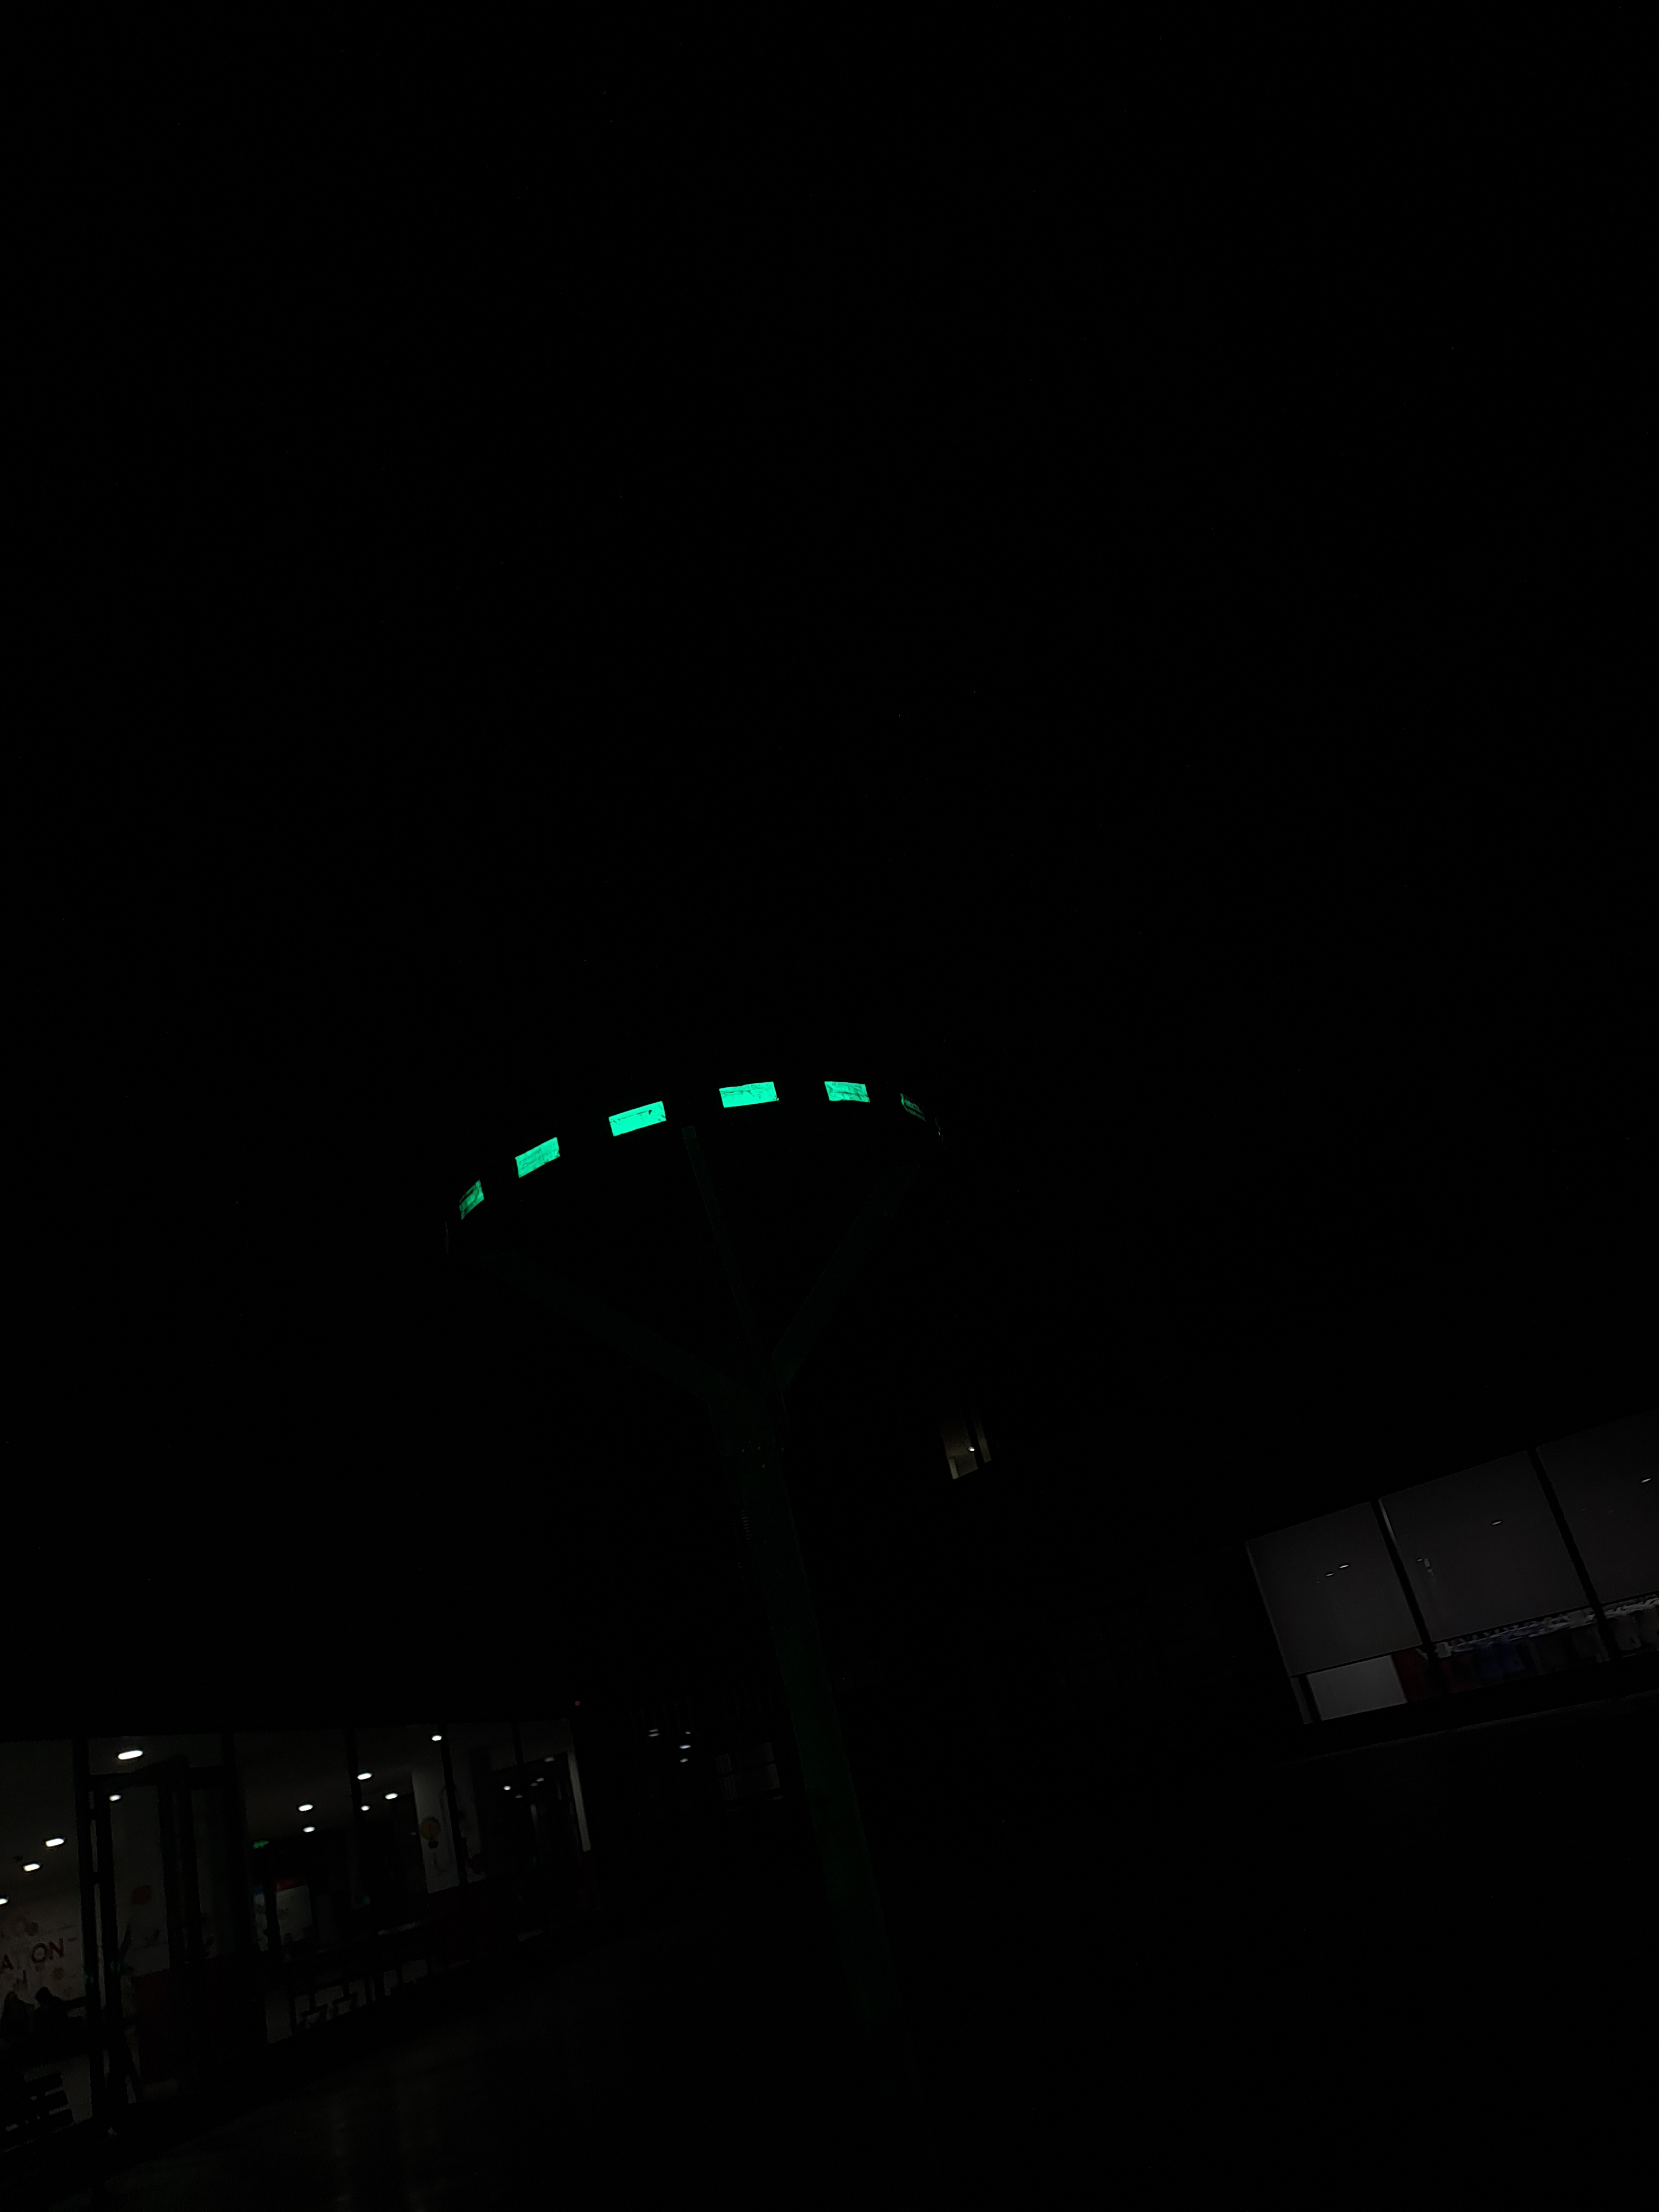hoop: (450, 1080, 880, 1230)
